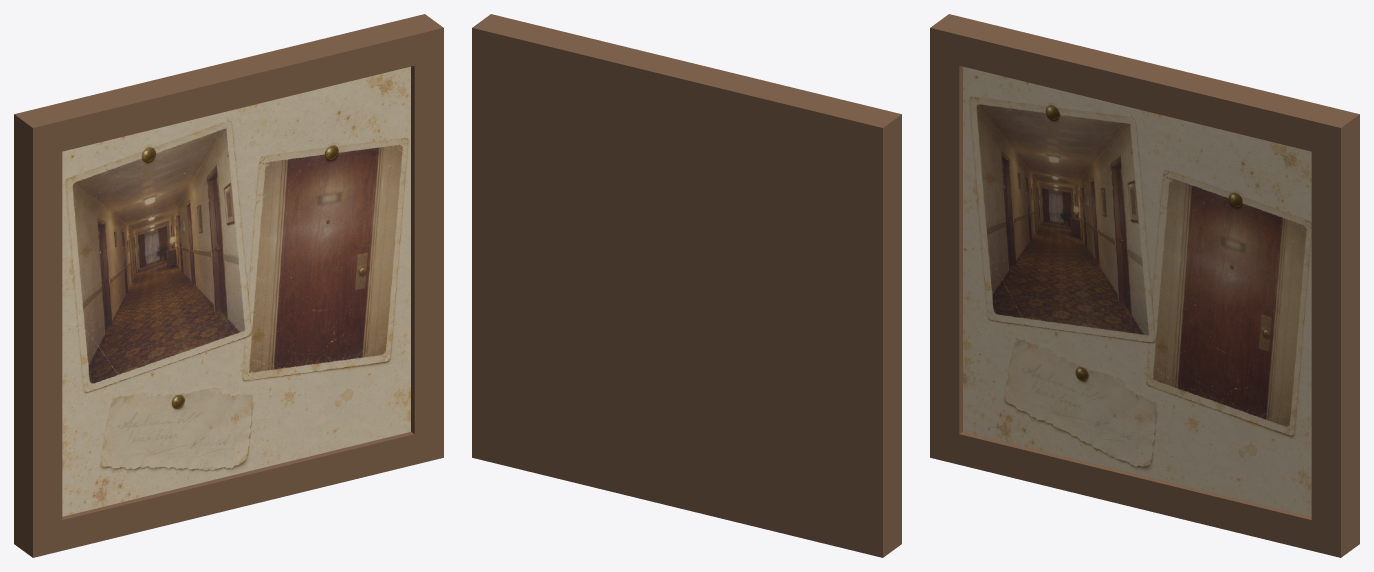
Rendered from pinned.glb.
3 renders of one model, left to right at view 1: azimuth 30°, elevation 25°; view 2: azimuth 150°, elevation 25°; view 3: azimuth 330°, elevation 25°, orthographic.
Visible parts, largest first — view 1: canvas, top, left, bottom, right; view 2: backing, top, left, bottom, right; view 3: canvas, top, right, bottom, left.
Boxes of the visible parts, left/top/right/bottom form: canvas: left=62, top=66, right=410, bottom=516; top: left=14, top=14, right=443, bottom=158; left: left=14, top=145, right=62, bottom=527; bottom: left=14, top=427, right=443, bottom=557; right: left=411, top=58, right=443, bottom=433; backing: left=501, top=65, right=853, bottom=519; top: left=472, top=14, right=901, bottom=158; left: left=853, top=145, right=901, bottom=527; bottom: left=472, top=427, right=901, bottom=557; right: left=472, top=58, right=501, bottom=433; canvas: left=963, top=66, right=1311, bottom=516; top: left=930, top=14, right=1359, bottom=158; right: left=1311, top=145, right=1359, bottom=527; bottom: left=930, top=427, right=1359, bottom=557; left: left=930, top=58, right=962, bottom=433.
Size of the model in its own units: 0.84 by 0.84 by 0.067.
2 materials, 1 textured.
